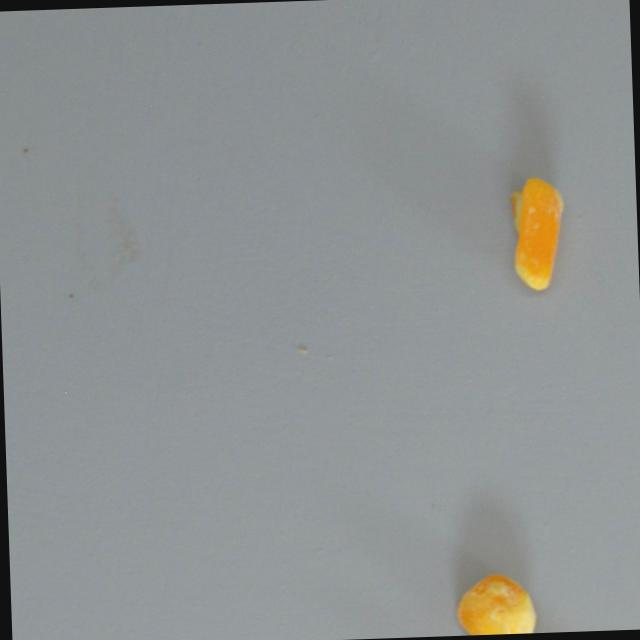pelicula: (432, 551, 565, 636), (508, 175, 566, 293)
